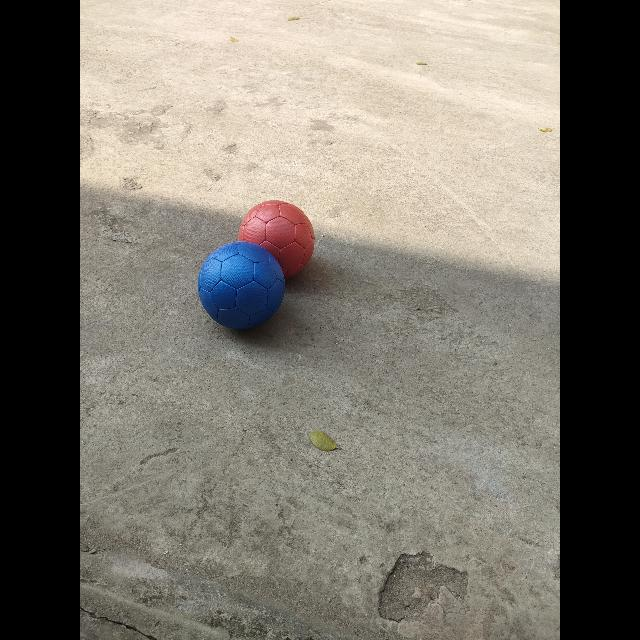B: (198, 241, 285, 329)
R: (238, 200, 315, 278)
